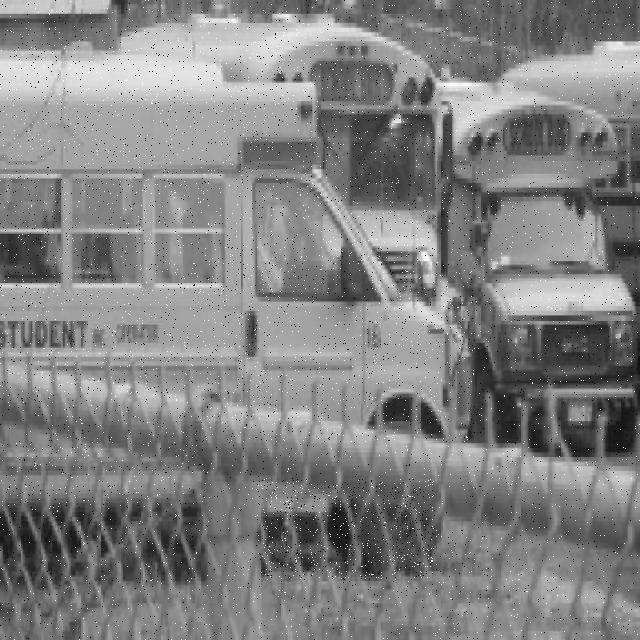Bus- Small: (0, 42, 473, 442), (257, 479, 435, 580), (0, 424, 205, 511)
